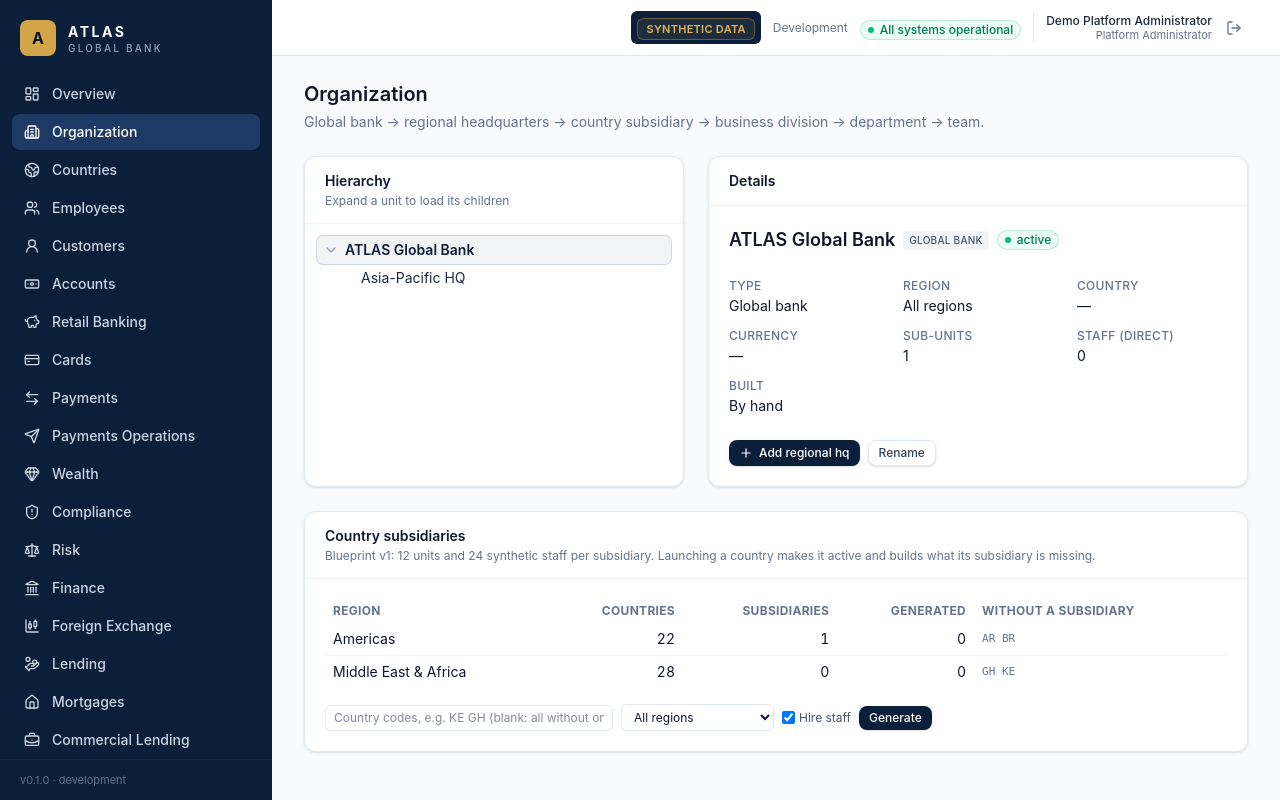
Scenario: Organization page › shows subsidiary coverage and generates subsidiaries as a job
Expected: the text "GH KE" is shown, left=974, top=656, right=1227, bottom=688
Expected: the text "Blueprint v1: 12 units and 24 synthetic staff" is shown, left=325, top=548, right=1096, bottom=563
In the field labelled "Country codes": (469, 718) left=325, top=704, right=613, bottom=730, type "gh, ke"
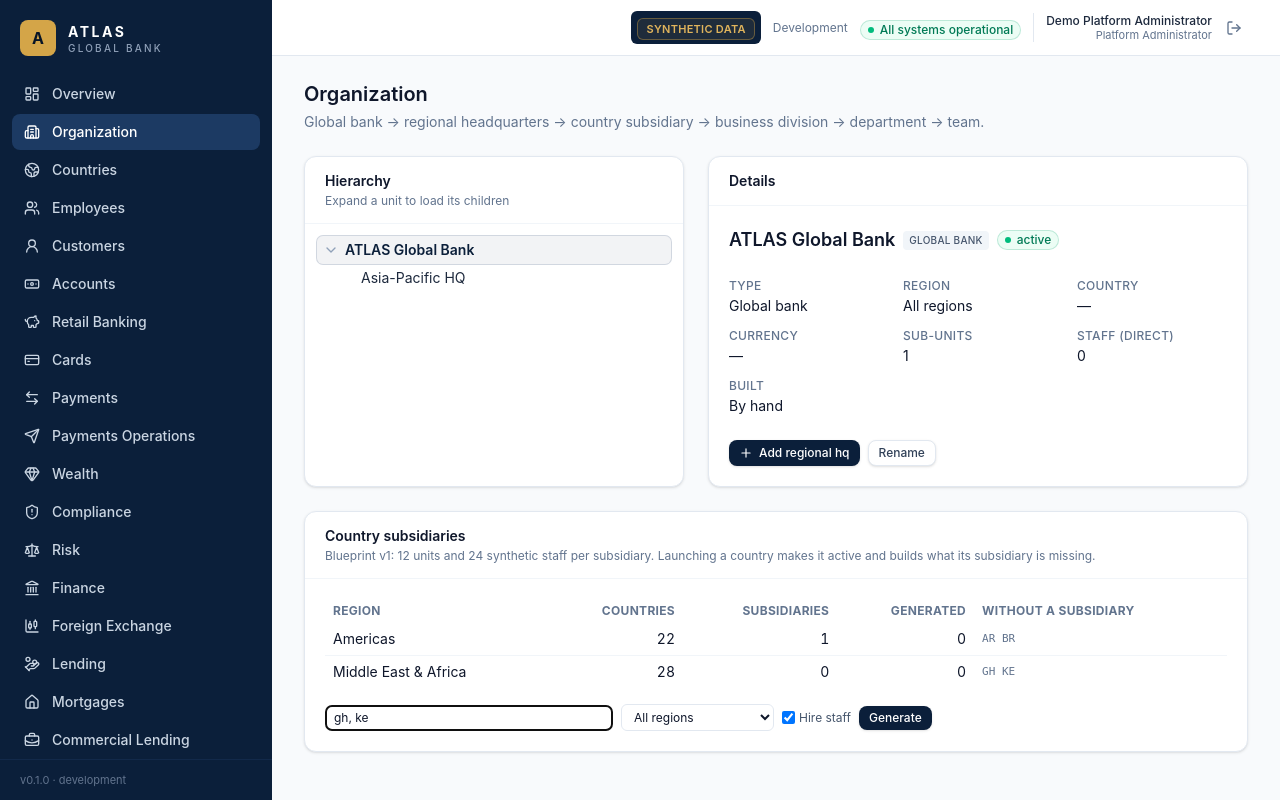
Click the button "Generate": (895, 718) left=859, top=706, right=932, bottom=730
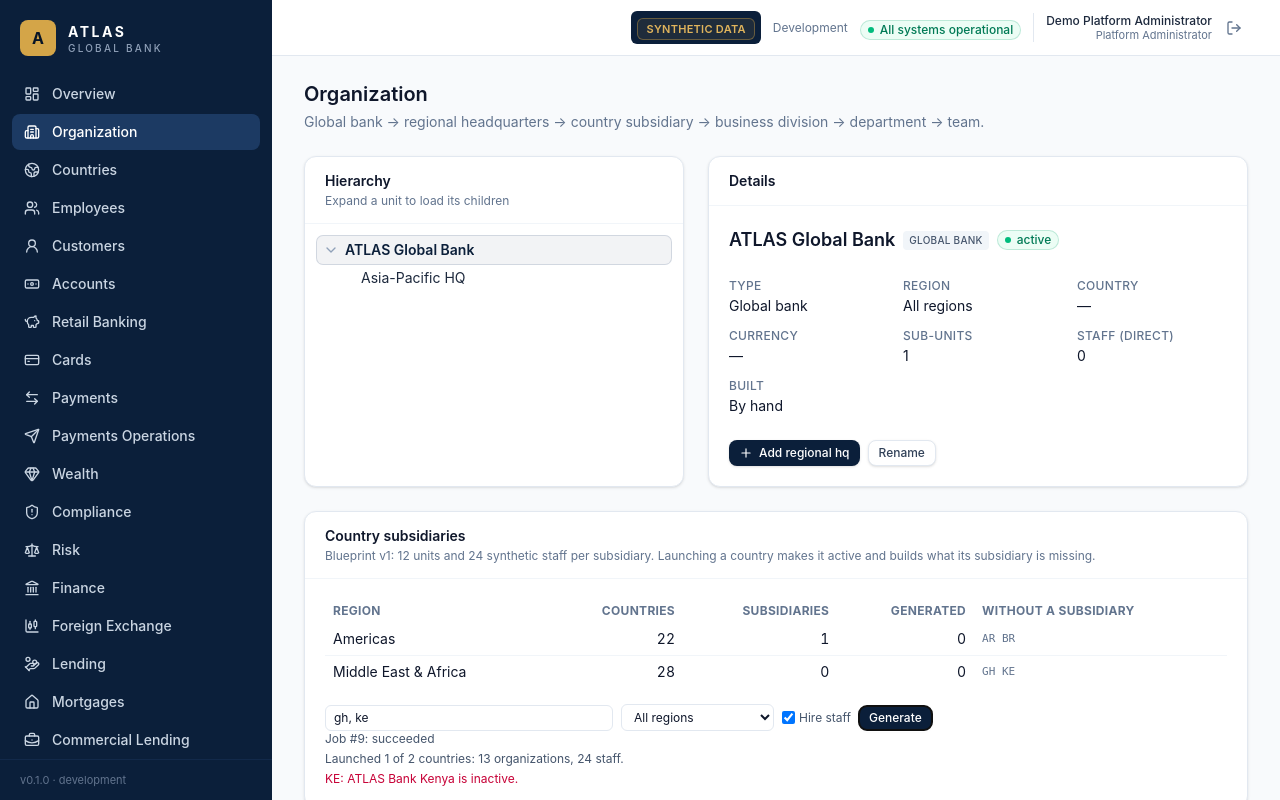
Now the text "Launched 1 of 2 countries: 13 organizations, 24 staff." is shown, box left=325, top=751, right=624, bottom=766
Now the text "KE: ATLAS Bank Kenya is inactive." is shown, box left=325, top=771, right=518, bottom=786
